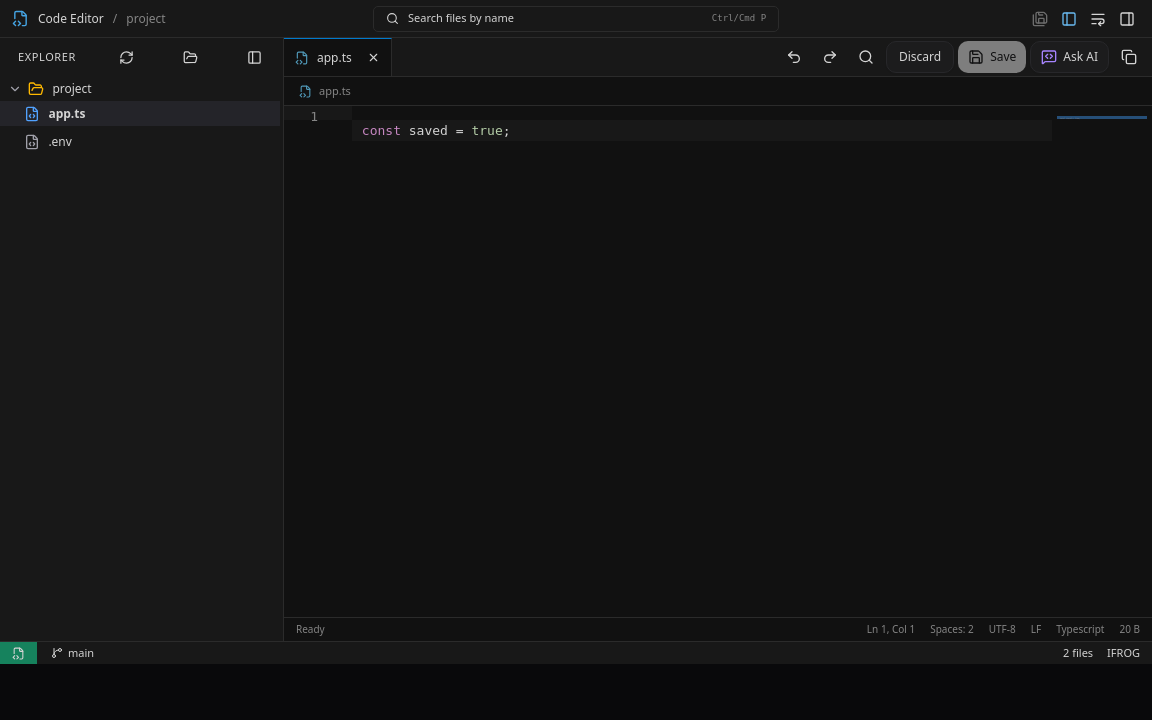
explains when no symbols match
Expected: the field named "Edit app.ts" is shown, [352,120,1052,141]
Press t
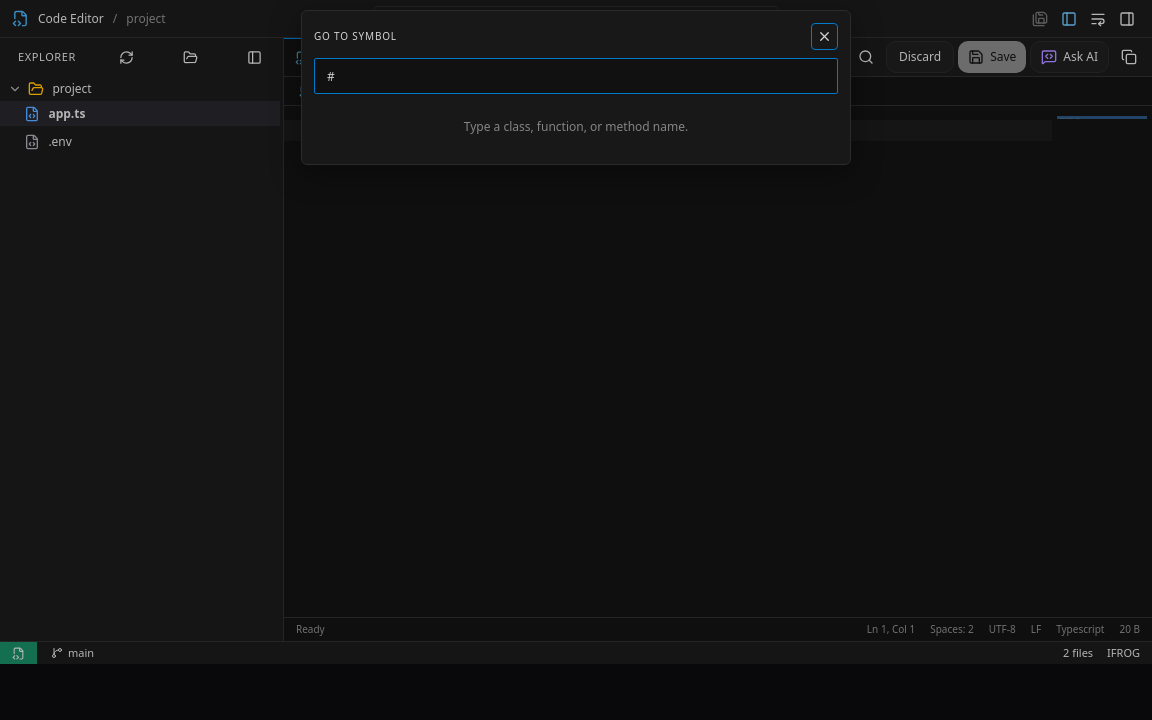
Replace the text in the field named "Search project files" with "#nothing": (576, 76) [314,58,838,94]
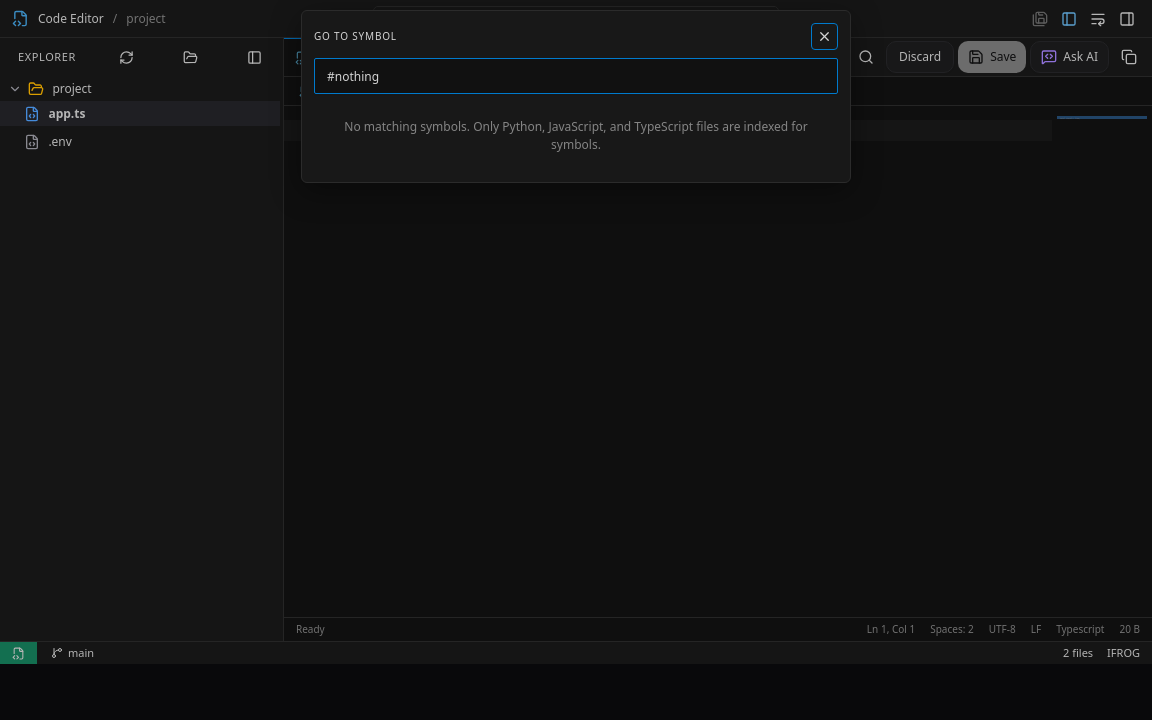
Expected: the text "No matching symbols" is shown, [344,118,808,153]
